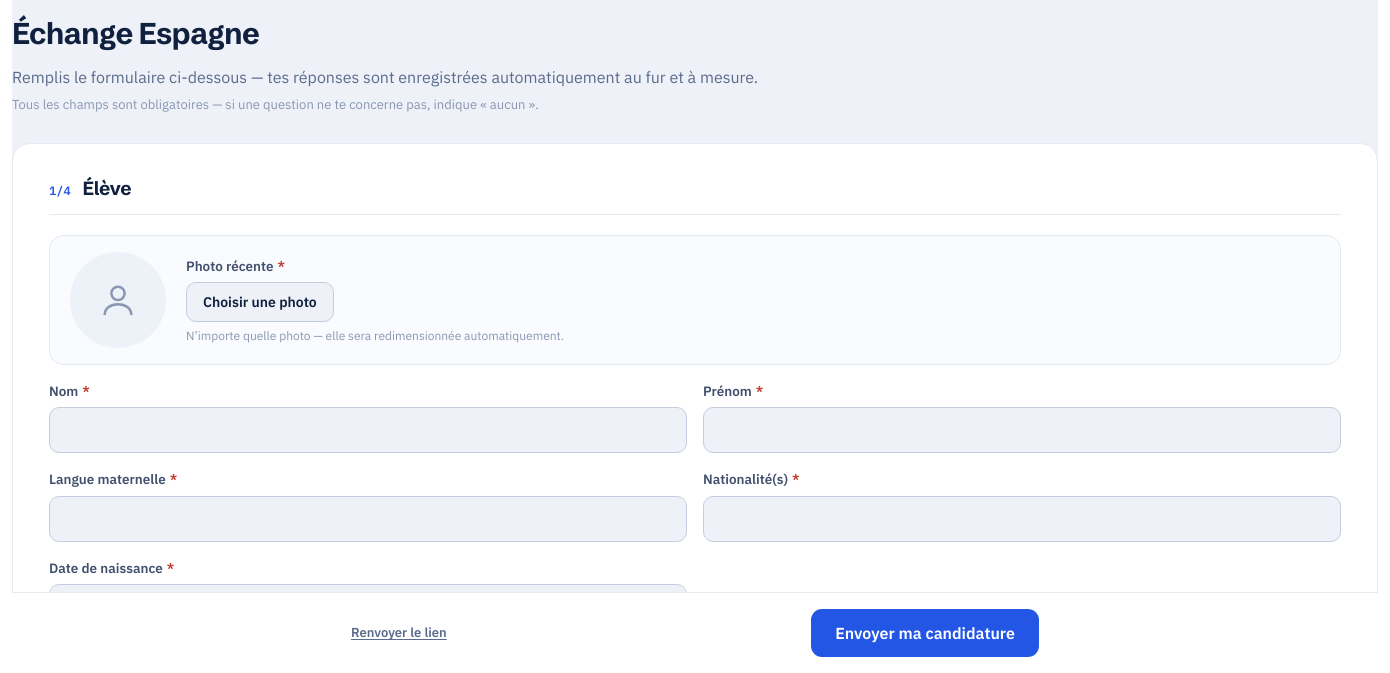
ApplicationForm › blocks submit client-side when an answer exceeds its limit
What coordinates should you click on to do the following:
click the button "Envoyer ma candidature"
I would click on:
 (925, 633)
Its box is left=811, top=609, right=1039, bottom=657.
(page scrolled)
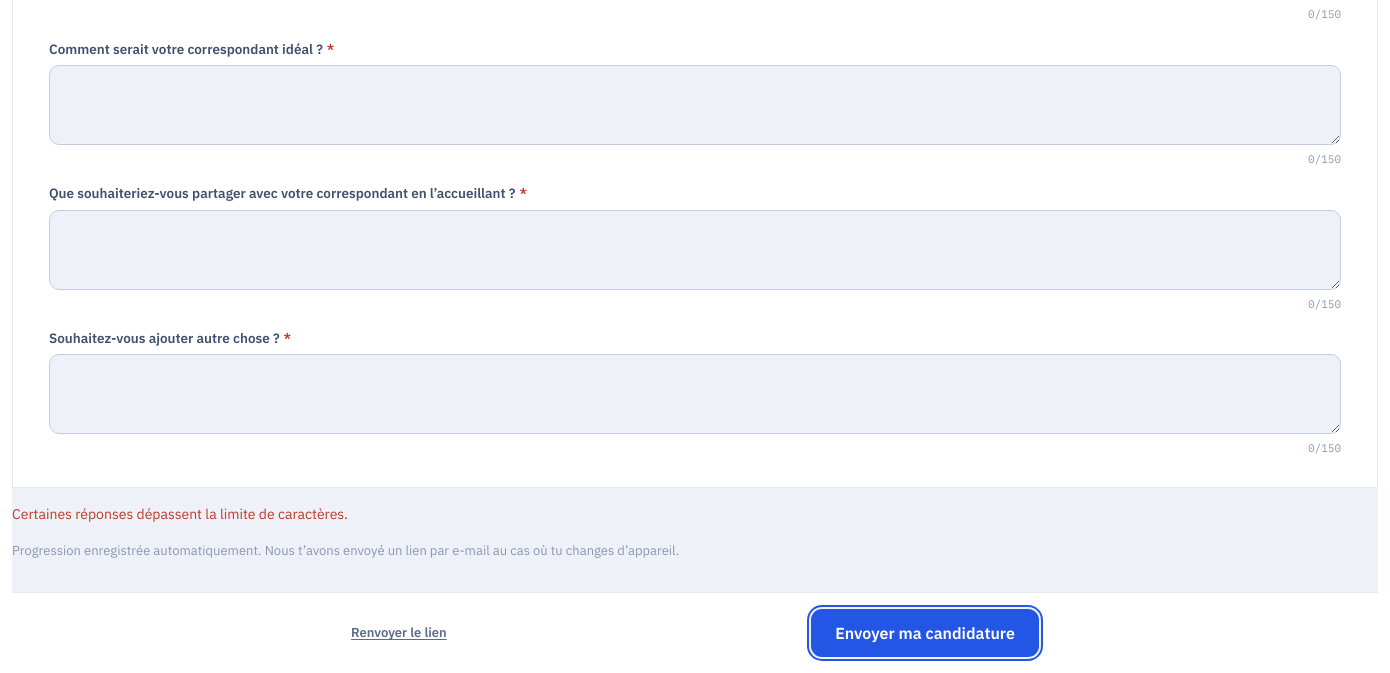
Result: the text "Certaines réponses dépassent la limite de caractères." is shown at left=12, top=505, right=348, bottom=523
